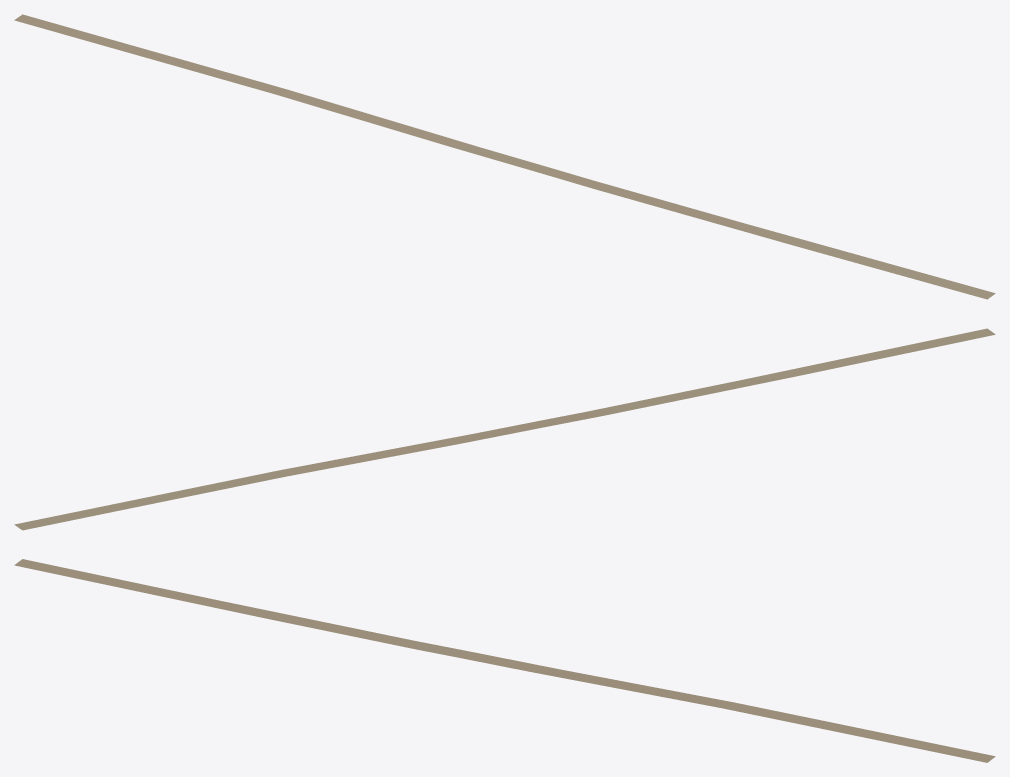
The model's file is farm_-23_-22_track.glb.
The picture shows the model from 3 angles, top to bottom: view 1: azimuth 90°, elevation 25°; view 2: azimuth 150°, elevation 25°; view 3: azimuth 270°, elevation 25°; orthographic projection.
Visible parts, largest first — view 1: geometry_0; view 2: geometry_0; view 3: geometry_0.
Part boxes in pixels (bbox=[...]): geometry_0: bbox=[14, 14, 995, 299]; geometry_0: bbox=[14, 328, 995, 530]; geometry_0: bbox=[14, 559, 995, 762].
Bounding box in the file's own units: 111 × 8.65 × 188.
